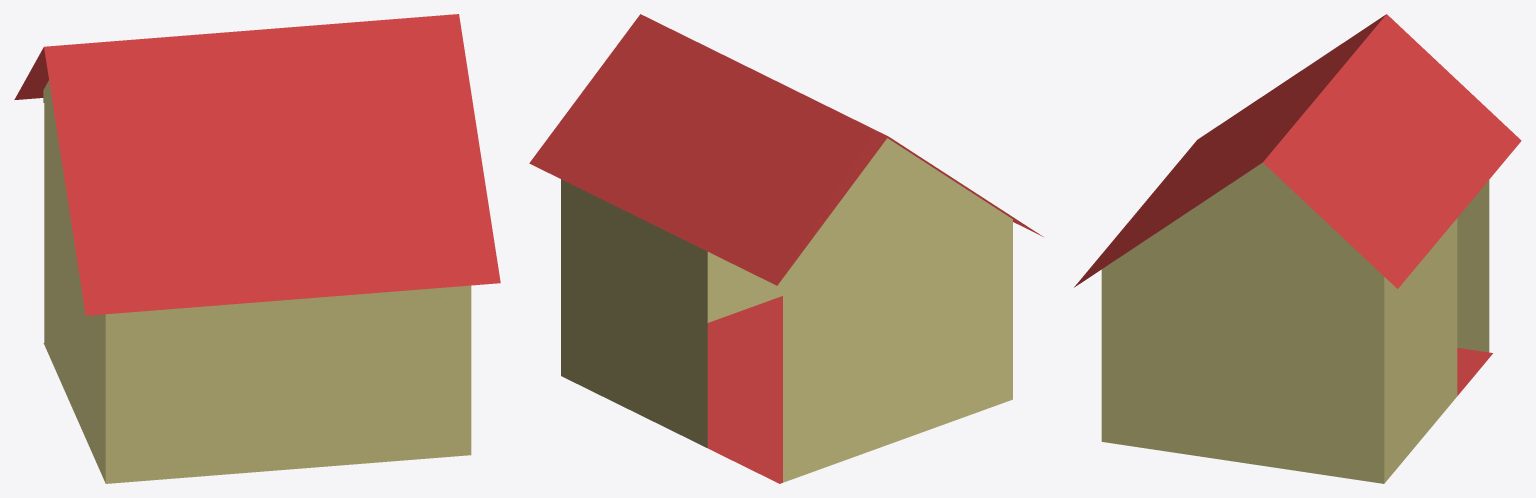
3 renders of one model, left to right at view 1: azimuth 30°, elevation 25°; view 2: azimuth 150°, elevation 25°; view 3: azimuth 270°, elevation 25°, orthographic. The views are drawn at different scales.
Size of the model in its own units: 15.76 by 15.17 by 11.7.
